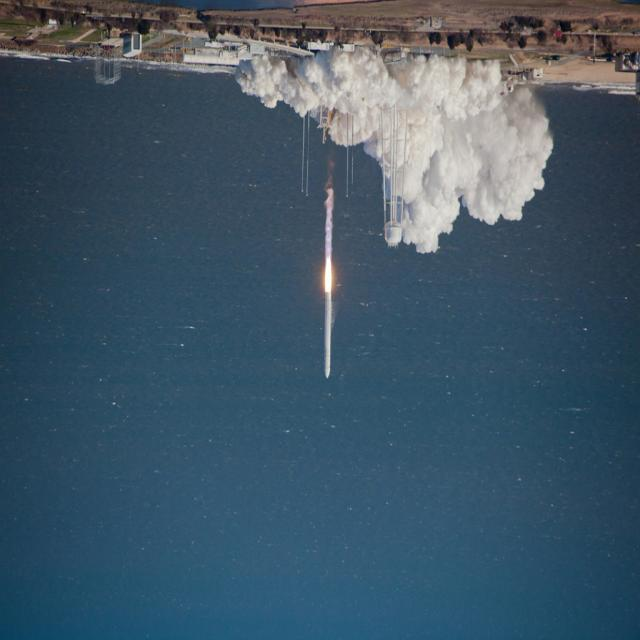missile: (309, 182, 357, 394)
